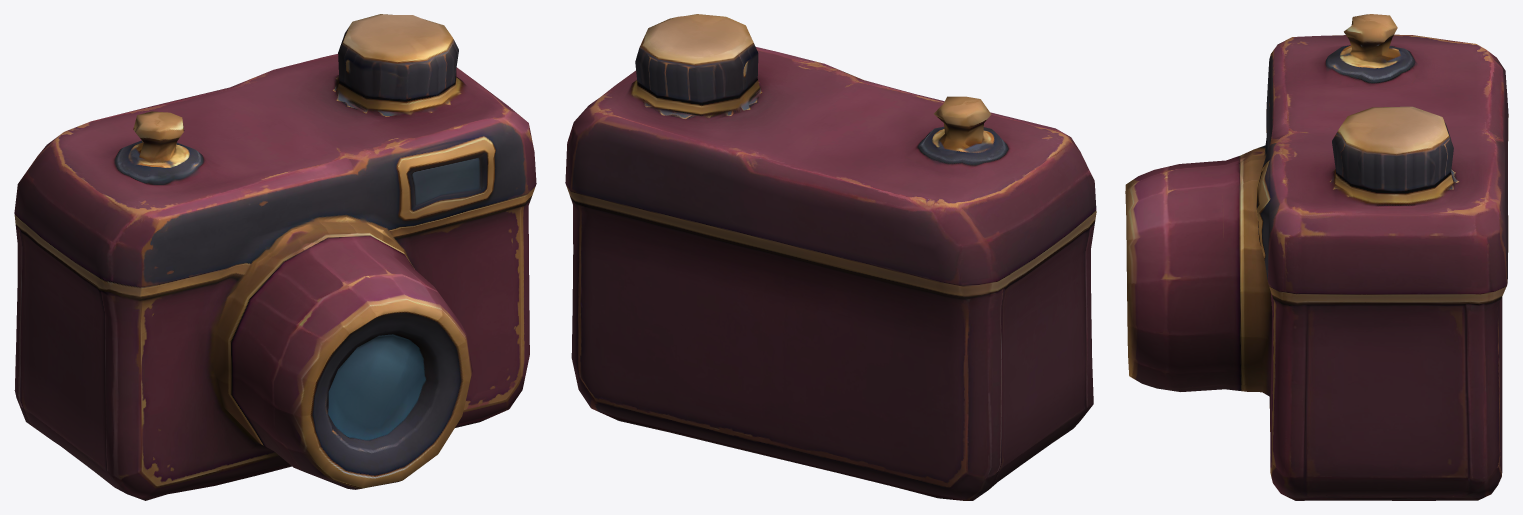
The model's file is tripo_convert_faf0e812-ab2b-4479-ab71-c838332c0676.fbx.
The picture shows the model from 3 angles, left to right: view 1: azimuth 30°, elevation 25°; view 2: azimuth 150°, elevation 25°; view 3: azimuth 270°, elevation 25°; orthographic projection. The views are drawn at different scales.
Visible parts, largest first — view 1: tripo_node_faf0e812; view 2: tripo_node_faf0e812; view 3: tripo_node_faf0e812.
Part boxes in pixels (x1,y1,x2,y2): tripo_node_faf0e812: (14, 14, 536, 500); tripo_node_faf0e812: (565, 14, 1096, 500); tripo_node_faf0e812: (1125, 14, 1508, 500).
Bounding box in the file's own units: 0.9785 × 0.771 × 0.7639.
1 material, 1 textured.
